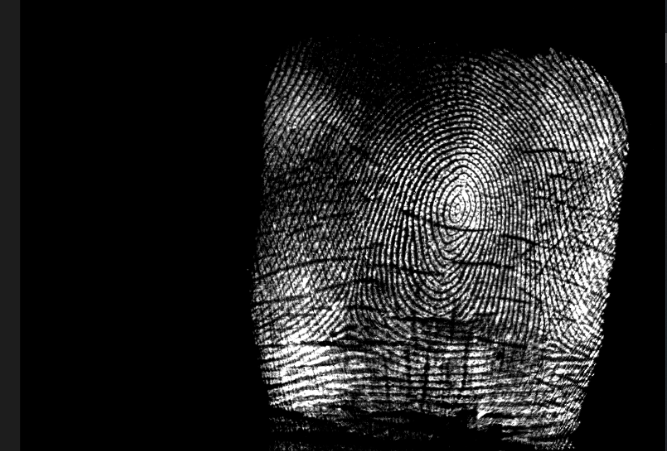nucelo: (442, 185, 472, 236)
verticilo: (531, 323, 573, 360), (327, 303, 366, 337)
